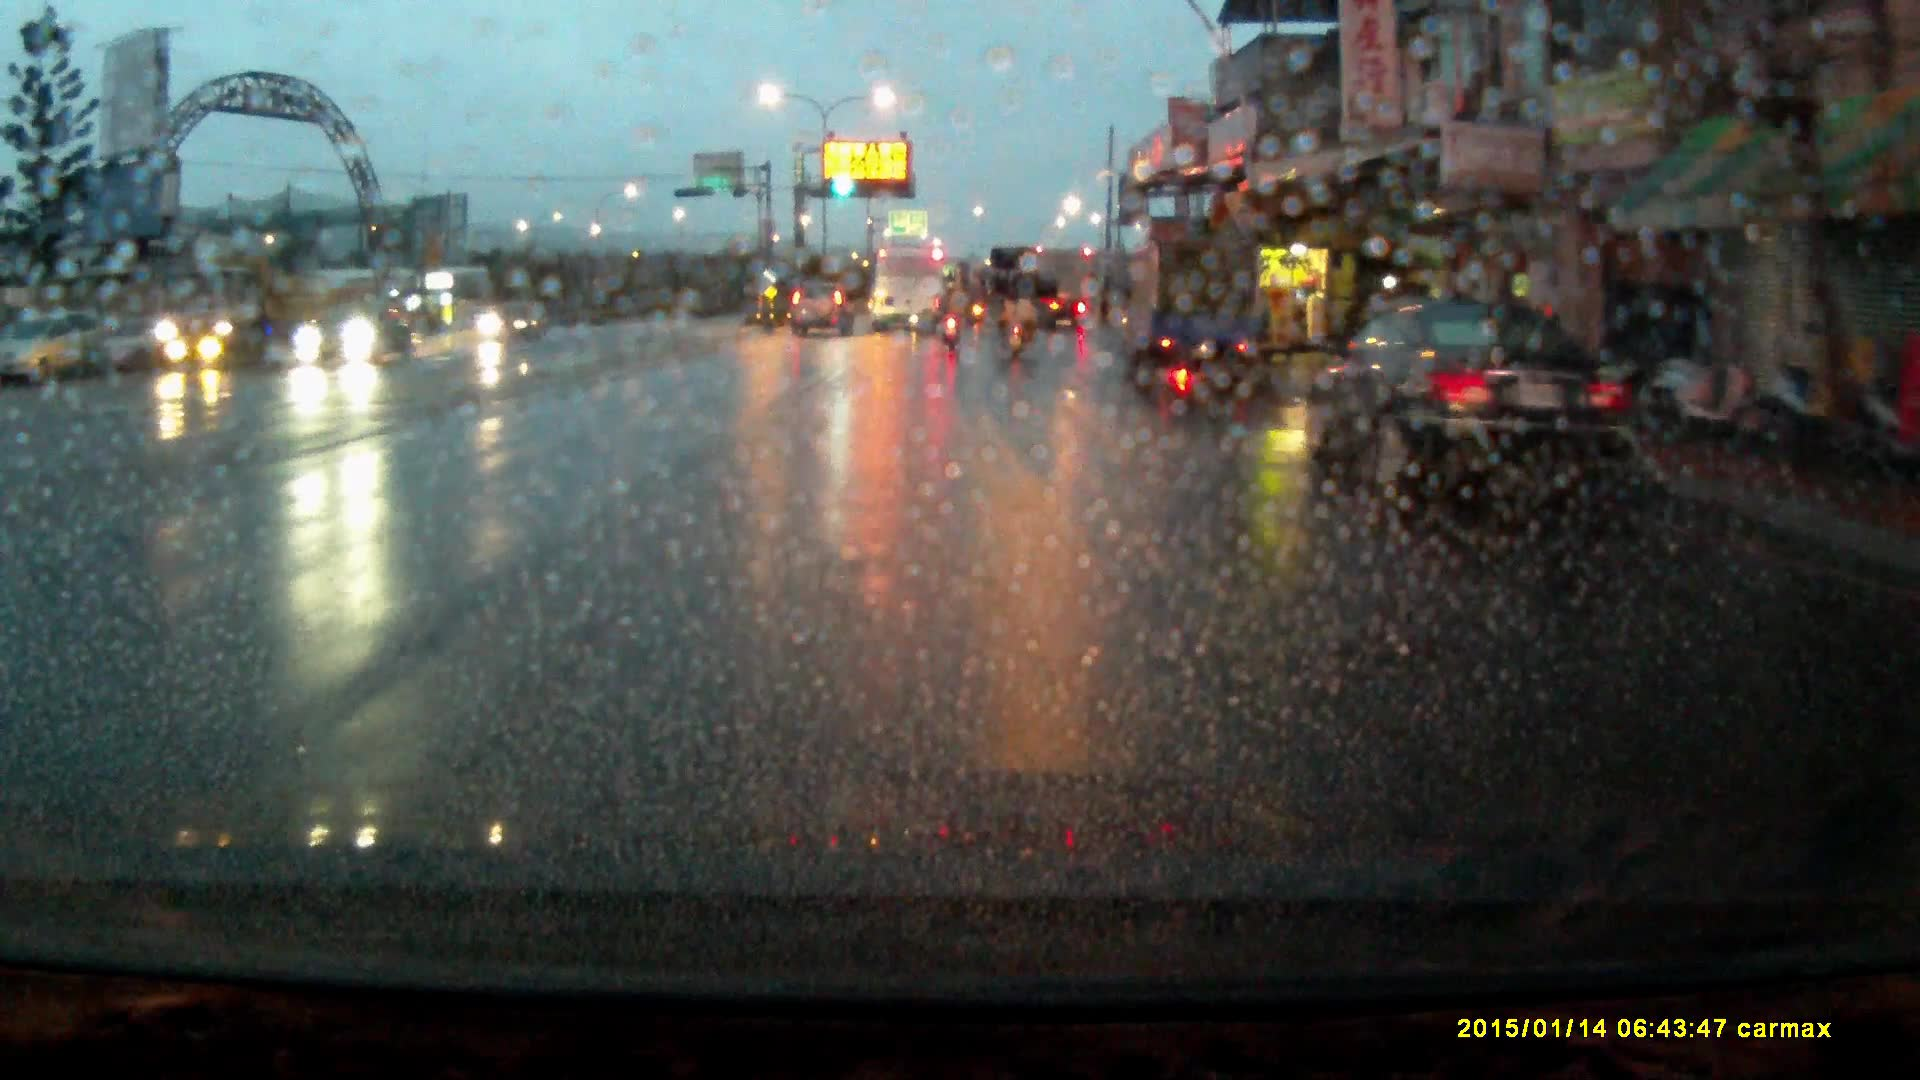rider: (997, 276, 1034, 359), (938, 285, 970, 355)
vehicle: (1323, 297, 1610, 517), (166, 253, 373, 370), (1119, 239, 1263, 379), (1, 310, 119, 390), (292, 307, 422, 371), (874, 246, 943, 335), (991, 249, 1059, 337), (791, 280, 855, 341), (473, 301, 548, 345)
